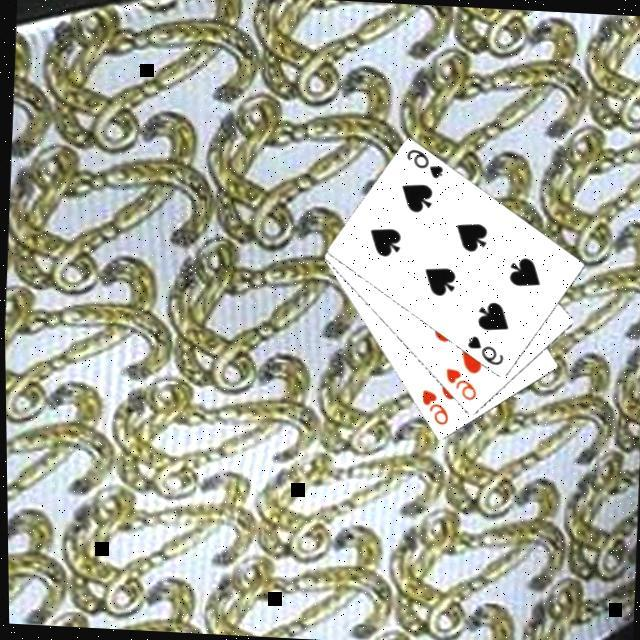6S: (463, 334, 508, 370), (402, 148, 447, 184)
9H: (416, 388, 454, 432), (440, 366, 480, 406)
